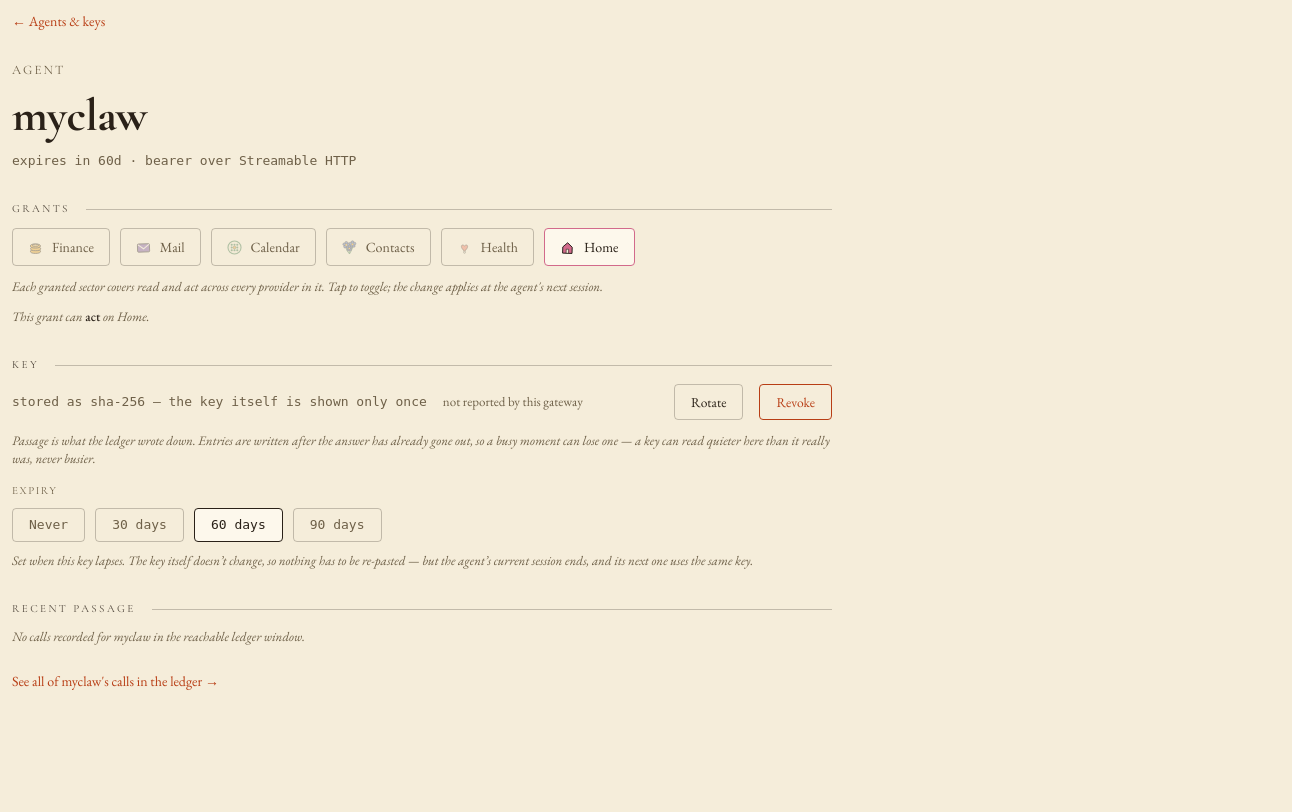
Test: AgentDetailPage › a GRANT toggle sends no expiry key at all — absent is the only 'leave it alone'
This screenshot has width=1292, height=812.
Click the button "Finance": point(61, 247) [12,228,110,266]
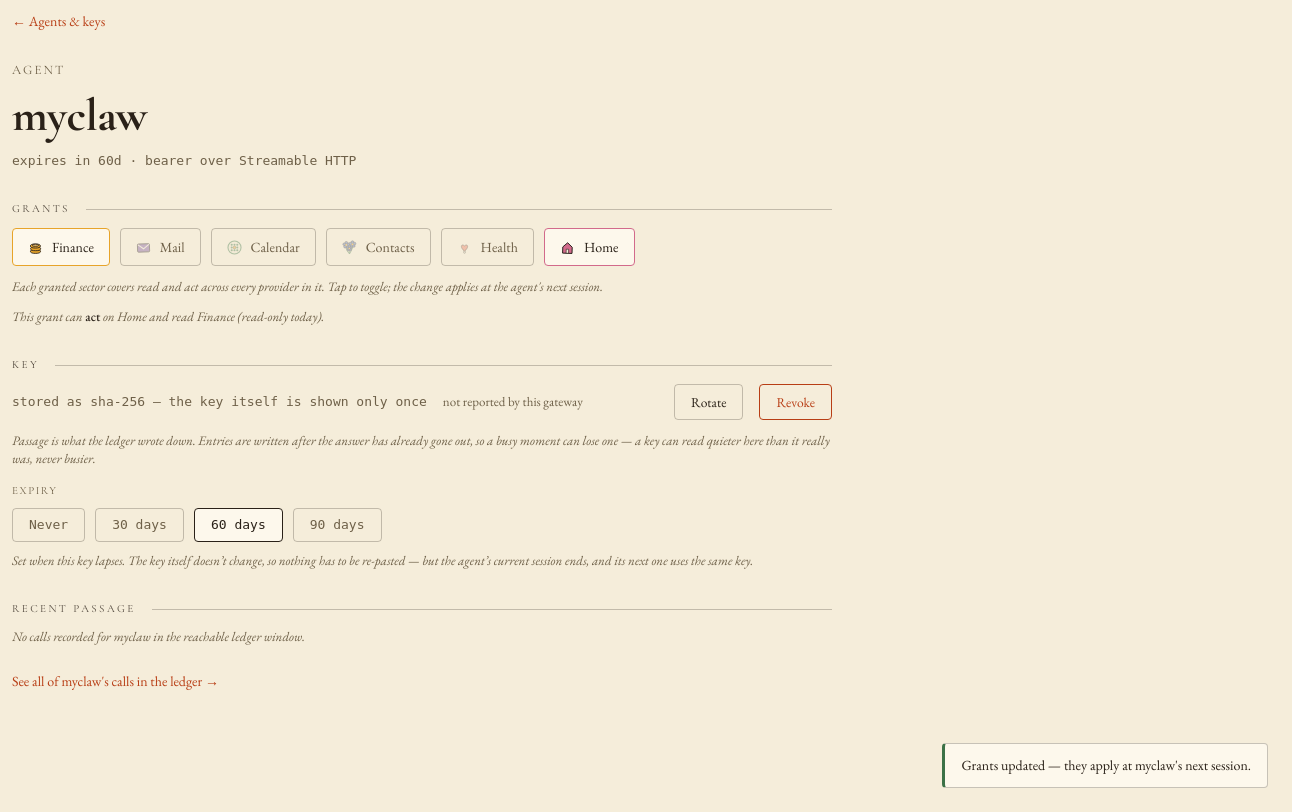
Result: the text "Grants updated — they apply at myclaw's next session." is shown at [942,743,1268,788]
